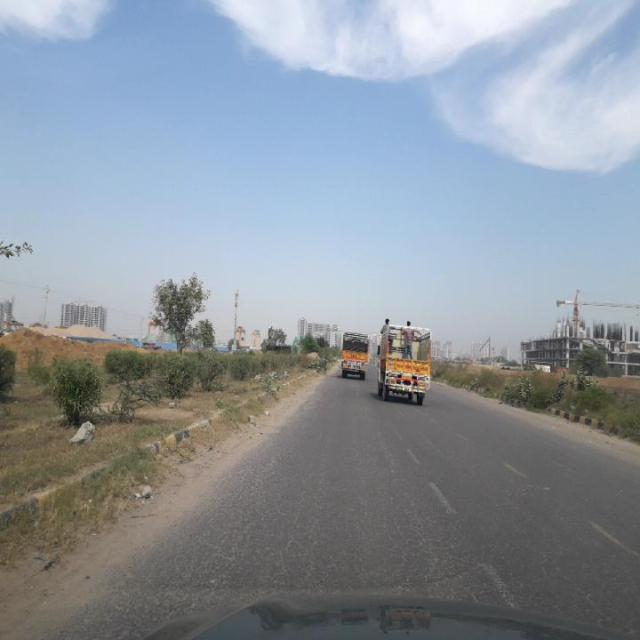D20: (100, 463, 639, 598)
D44: (442, 498, 502, 594)
